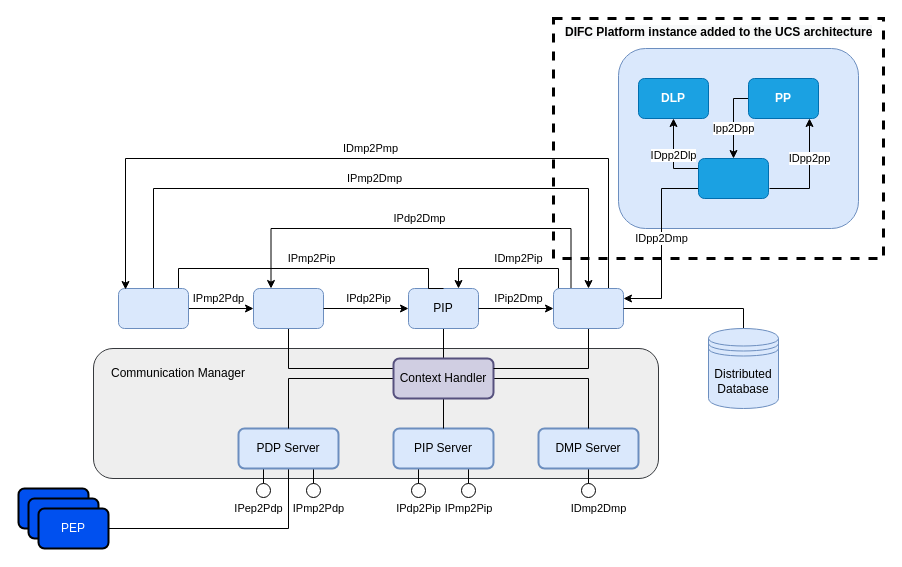
Image size: 902x567. Some labels were removed from this diagram. The centre of each missing label's shape, as x and y in pixels:
"DMP" belongs at pixel 588 308.
"DPP" belongs at pixel 733 178.
"PDP" belongs at pixel 288 308.
"PMP" belongs at pixel 153 308.
